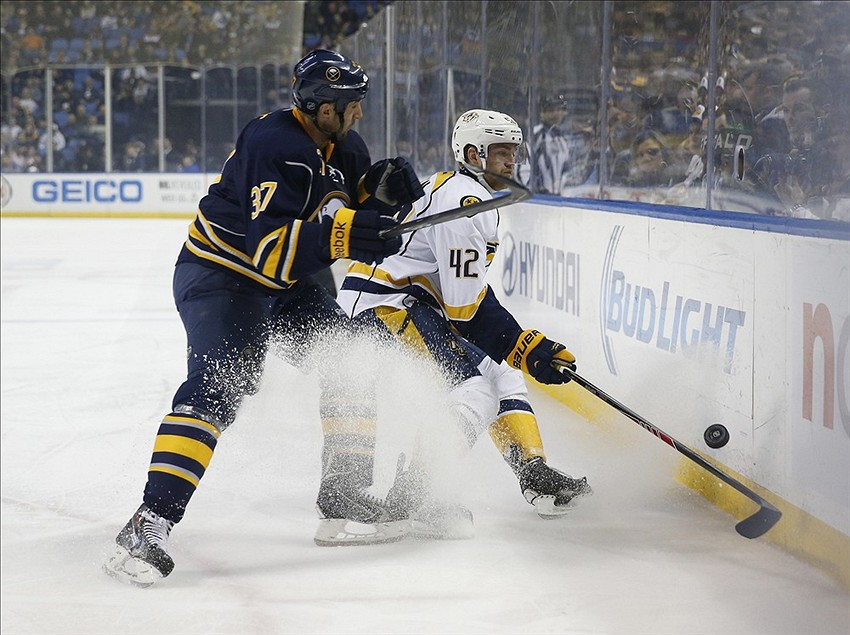Geico: (29, 174, 150, 210)
